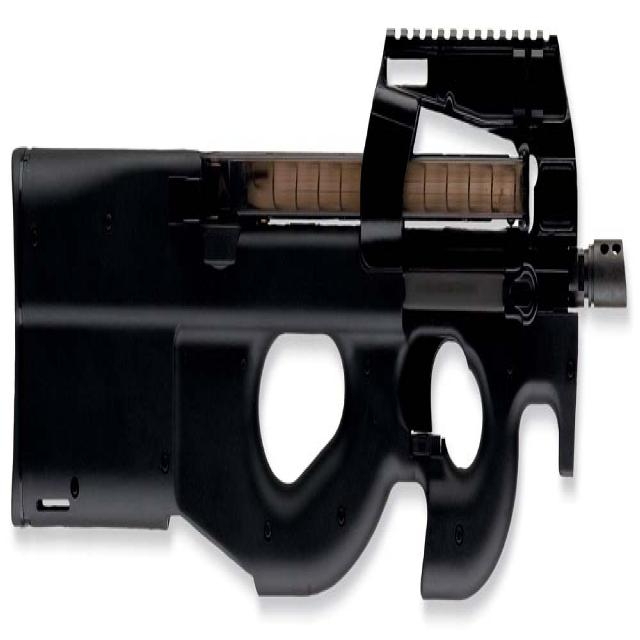Gun: (20, 25, 640, 624)
